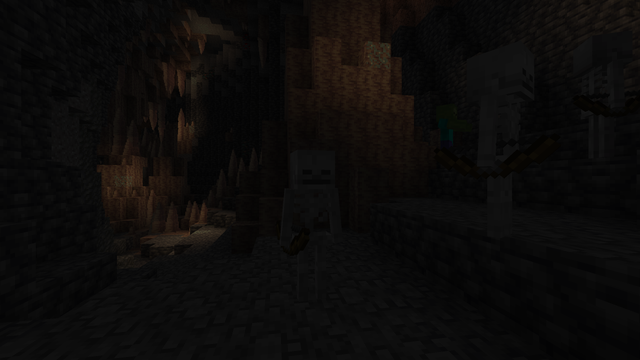squelettes: (457, 41, 549, 241), (566, 29, 637, 158), (288, 150, 337, 310)
zombies: (432, 105, 450, 168)
